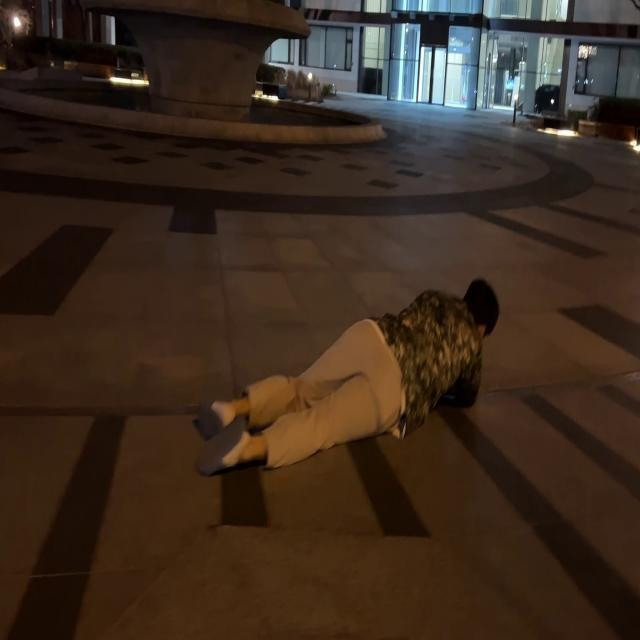Fall: (194, 279, 500, 476)
